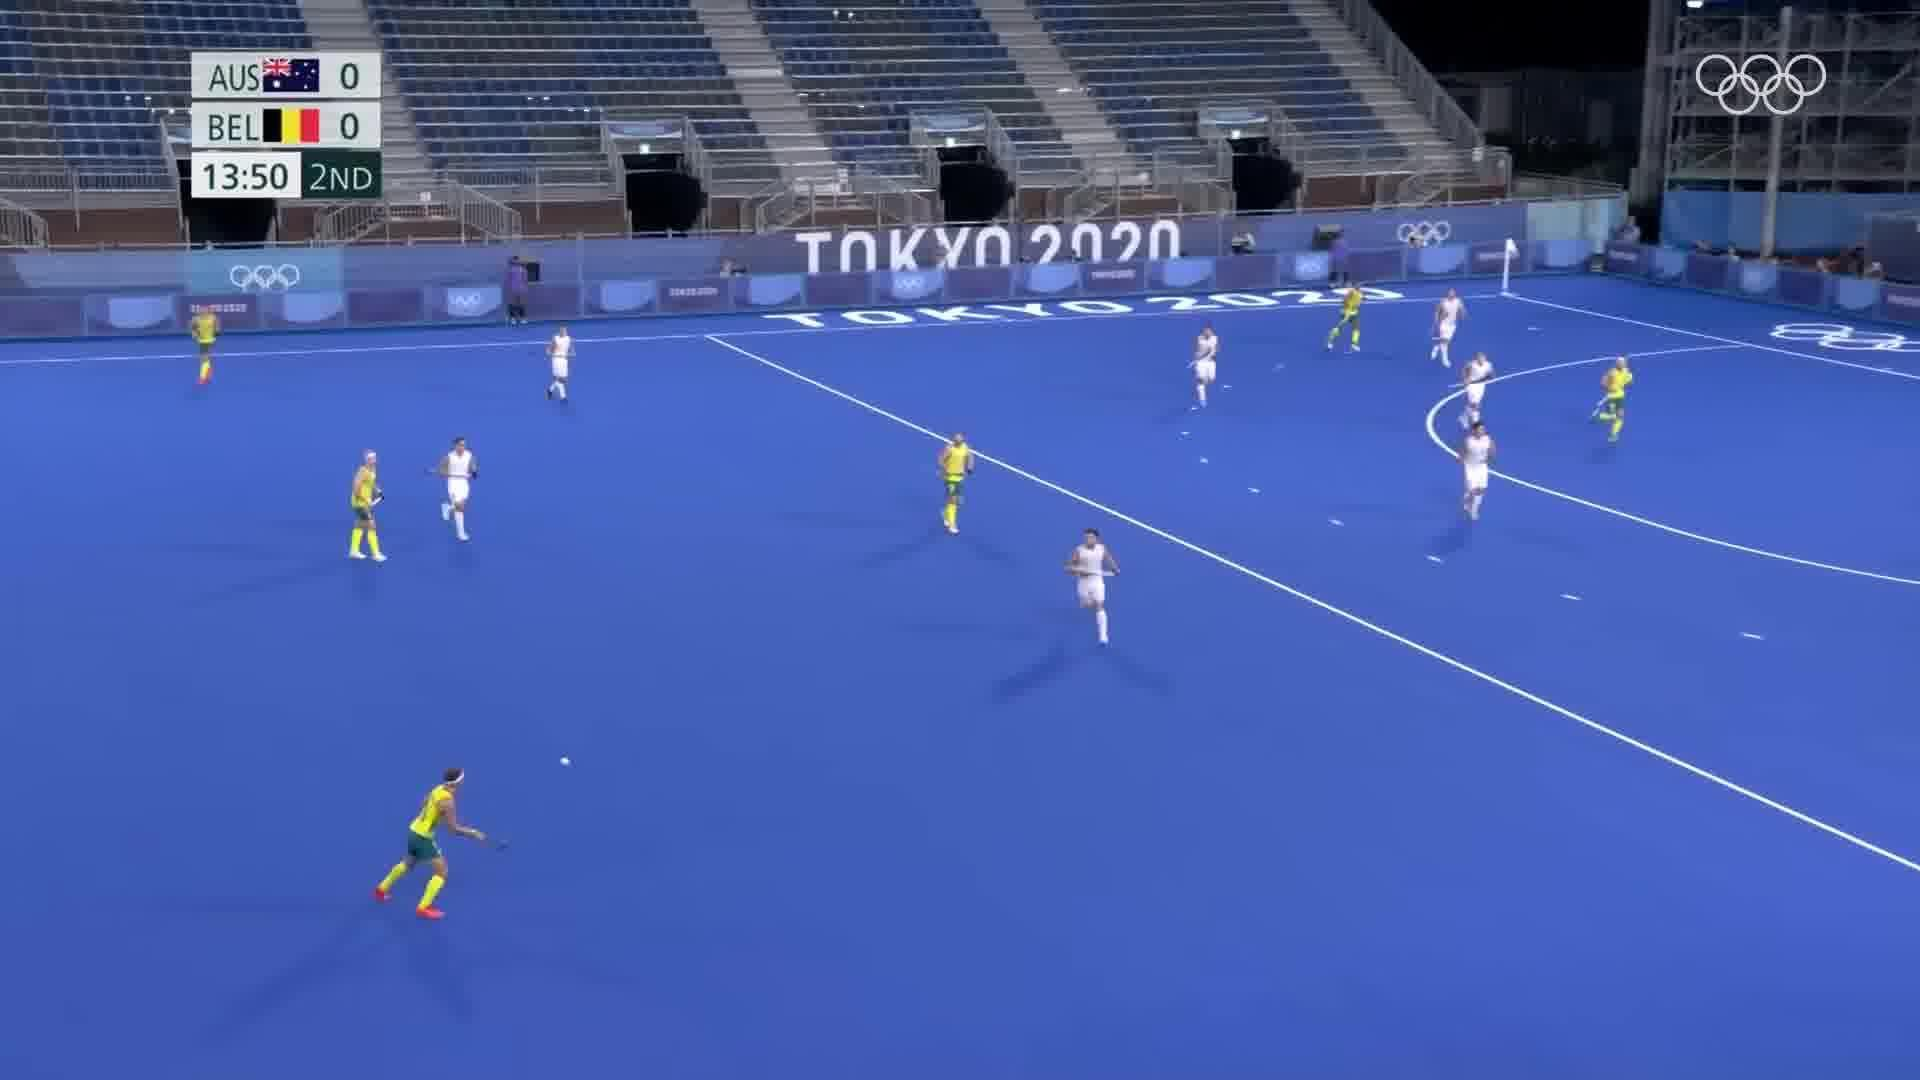ball: (555, 745, 576, 776)
